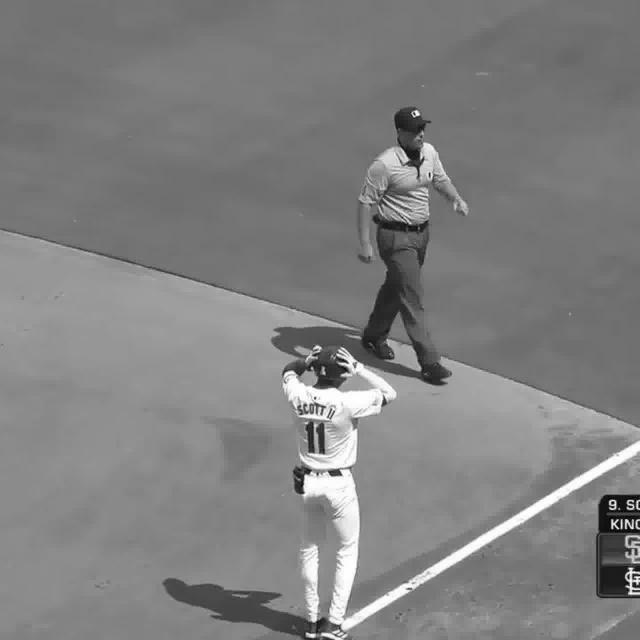shoe: (302, 613, 356, 640), (360, 333, 400, 359), (421, 362, 456, 378)
